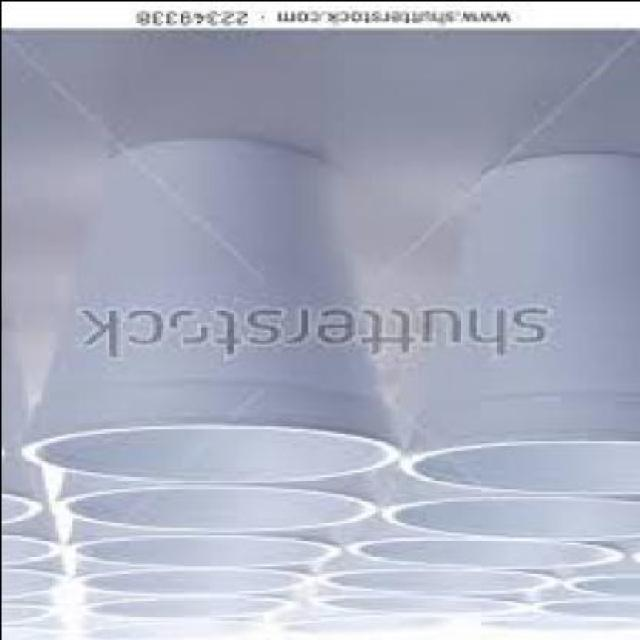PAPER: (27, 126, 404, 486), (403, 158, 639, 500), (64, 459, 381, 532), (391, 463, 638, 548), (77, 515, 351, 567), (357, 517, 626, 569), (324, 551, 559, 594), (3, 324, 45, 528), (71, 563, 320, 594), (320, 582, 532, 618), (3, 452, 71, 560), (84, 590, 296, 618), (288, 608, 483, 638), (77, 611, 274, 638), (488, 608, 640, 635), (3, 546, 71, 602), (542, 586, 638, 623), (3, 582, 71, 626), (570, 568, 638, 600), (3, 612, 83, 638), (620, 546, 638, 566)
